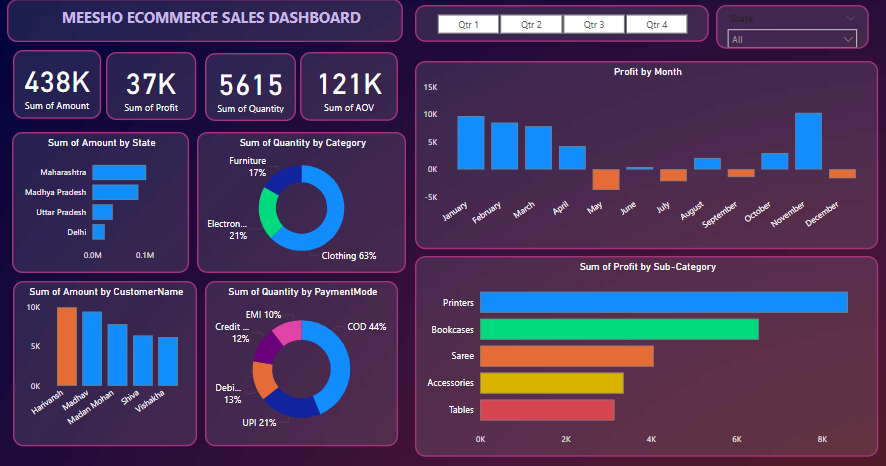

The dashboard page shown, as its layout file describes it:
{"tool":"powerbi","page":{"name":"Page 1","canvas":[1280,720],"ordinal":0},"visuals":[{"type":"textbox","box":[10.1,0,570.2,61.9],"z":0},{"type":"columnChart","title":" Profit by Month","fields":{"Category":["Orders.Order Date.Variation.Date Hierarchy.Month"],"Y":["Details.Profit"]},"box":[597.6,89.3,666.7,270.7],"z":1000},{"type":"barChart","fields":{"Category":["Details.Sub-Category"],"Y":["Details.Profit"]},"box":[597.6,370.1,666.7,289.4],"z":2000},{"type":"donutChart","fields":{"Category":["Details.Category"],"Y":["Details.Quantity"]},"box":[283.7,191.5,301,203],"z":3000},{"type":"donutChart","fields":{"Y":["Details.Quantity"],"Category":["Details.PaymentMode"]},"box":[295.2,406.1,277.9,237.6],"z":4000},{"type":"card","fields":{"Values":["Details.Amount"]},"box":[18.7,73.4,126.7,99.4],"z":5000},{"type":"card","fields":{"Values":["Details.Profit"]},"box":[152.6,76.3,129.6,97.9],"z":6000},{"type":"card","fields":{"Values":["Details.Quantity"]},"box":[295.2,77.8,131,97.9],"z":7000},{"type":"card","fields":{"Values":["Details.AOV"]},"box":[432,76.3,141.1,99.4],"z":8000},{"type":"barChart","fields":{"Category":["Orders.State"],"Y":["Details.Amount"]},"box":[17.3,191.5,254.9,203],"z":9000},{"type":"columnChart","fields":{"Category":["Orders.CustomerName"],"Y":["Details.Amount"]},"box":[18.7,406.1,265,237.6],"z":10000},{"type":"slicer","fields":{"Values":["Orders.Order Date.Variation.Date Hierarchy.Quarter"]},"box":[597.6,8.6,423.4,53.3],"z":11000},{"type":"slicer","fields":{"Values":["Orders.State"]},"box":[1031,8.6,220.3,63.4],"z":12000}]}

Visuals, with their boxes on the page's 1280x720 design canvas (x1, y1, x2, y2). These are canvas units, not pixel positions in the 886x466 screenshot, which may show the page scaled, cropped or inside an application window:
textbox: (10, 0, 580, 62)
" Profit by Month" columnChart: (598, 89, 1264, 360)
barChart - Details.Sub-Category x Details.Profit: (598, 370, 1264, 660)
donutChart - Details.Category x Details.Quantity: (284, 192, 585, 394)
donutChart - Details.Quantity x Details.PaymentMode: (295, 406, 573, 644)
card - Details.Amount: (19, 73, 145, 173)
card - Details.Profit: (153, 76, 282, 174)
card - Details.Quantity: (295, 78, 426, 176)
card - Details.AOV: (432, 76, 573, 176)
barChart - Orders.State x Details.Amount: (17, 192, 272, 394)
columnChart - Orders.CustomerName x Details.Amount: (19, 406, 284, 644)
slicer - Orders.Order Date.Variation.Date Hierarchy.Quarter: (598, 9, 1021, 62)
slicer - Orders.State: (1031, 9, 1251, 72)
